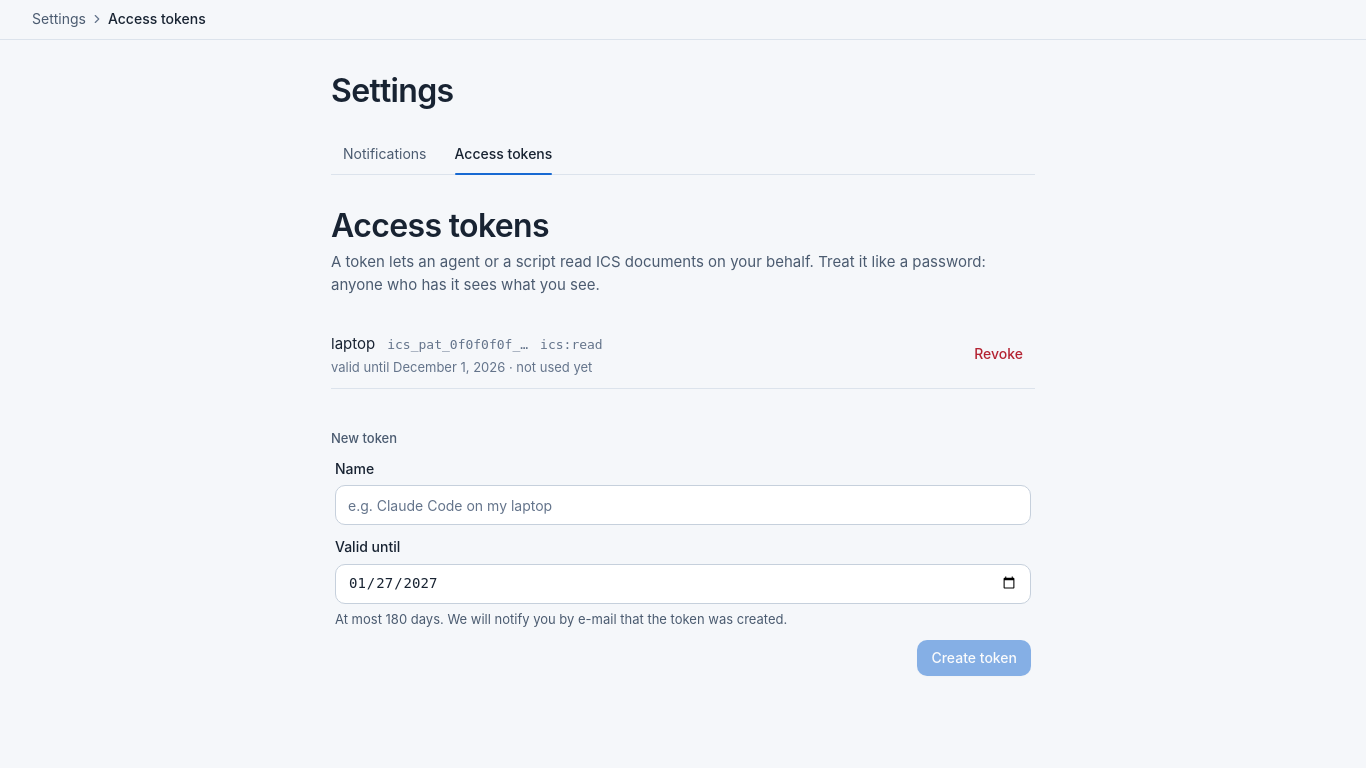
Test case: AccessTokens › revokes a token after confirmation
Expected: the text "laptop" is shown, 331,332 -> 375,356
Click the button "Revoke". click: coordinates (999, 354)
box: 962,338 -> 1035,370
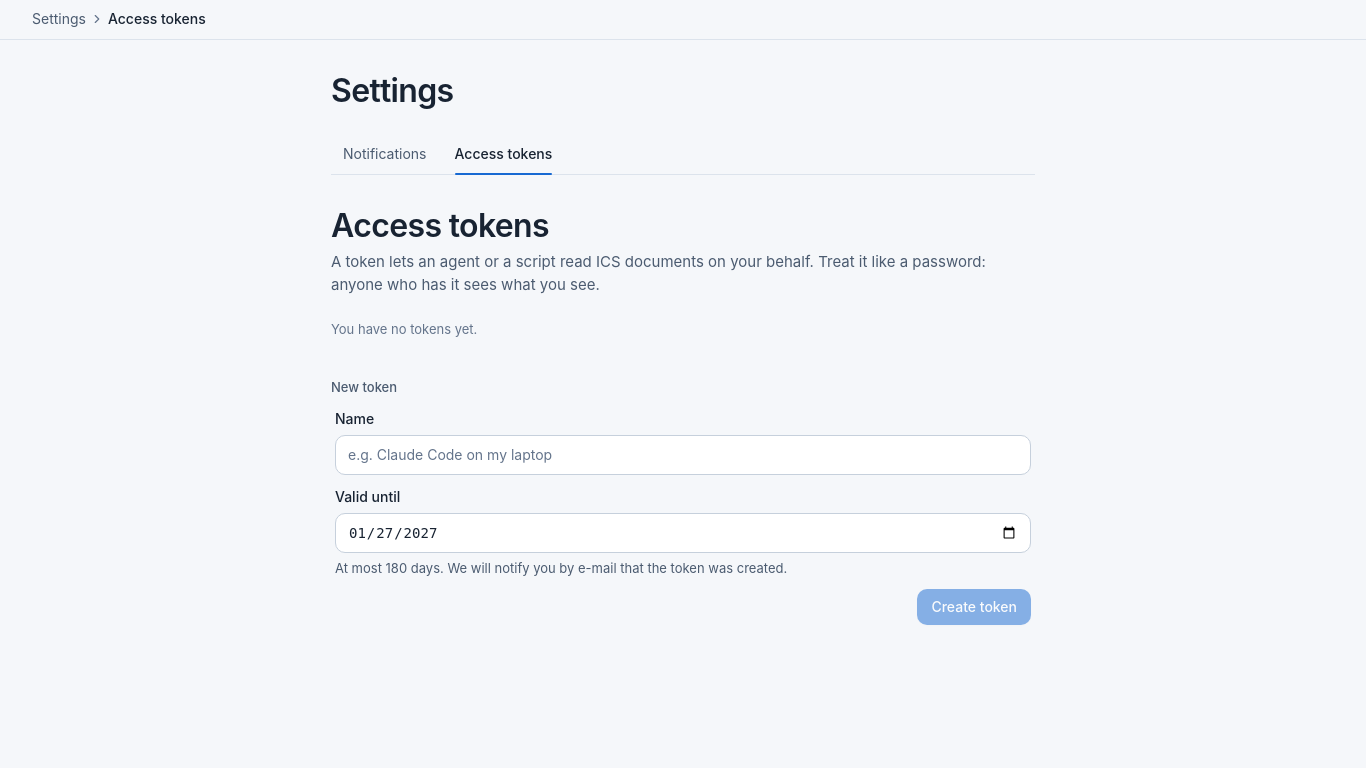
Expected: the text "You have no tokens yet." is shown, 331,321 -> 477,337
